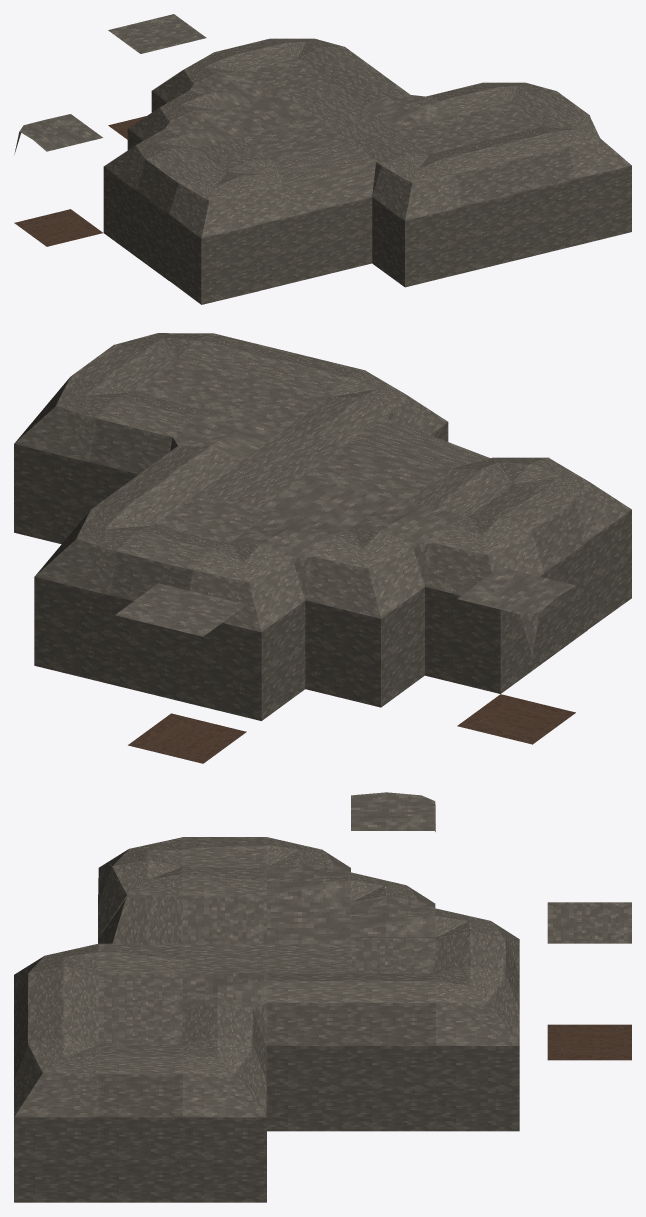
The model's file is keyman two.glb.
3 views of the same model, one above another, from view 1: azimuth 30°, elevation 25°; view 2: azimuth 150°, elevation 25°; view 3: azimuth 270°, elevation 25° (orthographic). The views are drawn at different scales.
Visible parts, largest first — view 1: conerin-col.007, conerin-col.003, Wall-col.012, Wall-col.009, Wall-col.001, conerin-col.008, conerin-col.006, Wall-col.010, conerin-col, coner-col.003, floor-col.004, floor-col.005 (+20 smaller); view 2: conerin-col.004, conerin-col.001, conerin-col, conerin-col.002, conerin-col.005, Wall-col.002, Wall-col.010, conerin-col.007, floor-col.005, Wall-col, coner-col.003, floor-col.004 (+20 smaller); view 3: Wall-col.006, Wall-col.003, conerin-col.006, conerin-col.005, Wall-col.004, conerin-col.002, floor-col.005, floor-col.004, floor-col.003, Wall-col.012, coner-col.002, conerin-col.008 (+20 smaller).
Part boxes in pixels (left/top/right/bottom): conerin-col.007: left=169, top=172, right=259, bottom=304; conerin-col.003: left=372, top=154, right=461, bottom=287; Wall-col.012: left=273, top=142, right=375, bottom=277; Wall-col.009: left=429, top=140, right=518, bottom=273; Wall-col.001: left=486, top=126, right=574, bottom=259; conerin-col.008: left=226, top=160, right=315, bottom=290; conerin-col.006: left=543, top=115, right=631, bottom=245; Wall-col.010: left=136, top=148, right=225, bottom=280; conerin-col: left=103, top=128, right=192, bottom=256; coner-col.003: left=14, top=114, right=102, bottom=246; floor-col.004: left=240, top=118, right=348, bottom=160; floor-col.005: left=108, top=14, right=206, bottom=139; conerin-col.004: left=305, top=530, right=424, bottom=707; conerin-col.001: left=186, top=543, right=305, bottom=720; conerin-col: left=425, top=516, right=544, bottom=693; conerin-col.002: left=34, top=510, right=153, bottom=684; conerin-col.005: left=14, top=376, right=132, bottom=544; Wall-col.002: left=110, top=525, right=228, bottom=702; Wall-col.010: left=469, top=484, right=587, bottom=661; conerin-col.007: left=511, top=458, right=631, bottom=629; floor-col.005: left=115, top=583, right=246, bottom=763; Wall-col: left=89, top=392, right=208, bottom=510; coner-col.003: left=457, top=567, right=575, bottom=744; floor-col.004: left=304, top=444, right=448, bottom=500; Wall-col.006: left=350, top=973, right=435, bottom=1131; Wall-col.003: left=98, top=1044, right=182, bottom=1202; conerin-col.006: left=14, top=1037, right=98, bottom=1202; conerin-col.005: left=182, top=1037, right=266, bottom=1202; Wall-col.004: left=266, top=973, right=350, bottom=1131; conerin-col.002: left=435, top=966, right=519, bottom=1131; floor-col.005: left=547, top=902, right=631, bottom=1060; floor-col.004: left=182, top=896, right=266, bottom=943; floor-col.003: left=267, top=896, right=350, bottom=943; Wall-col.012: left=98, top=895, right=182, bottom=944; coner-col.002: left=351, top=895, right=435, bottom=937; conerin-col.008: left=98, top=859, right=182, bottom=938.
Bounding box in the file's own units: 24.03 × 5.11 × 22.01.
2 materials, 2 textured.
